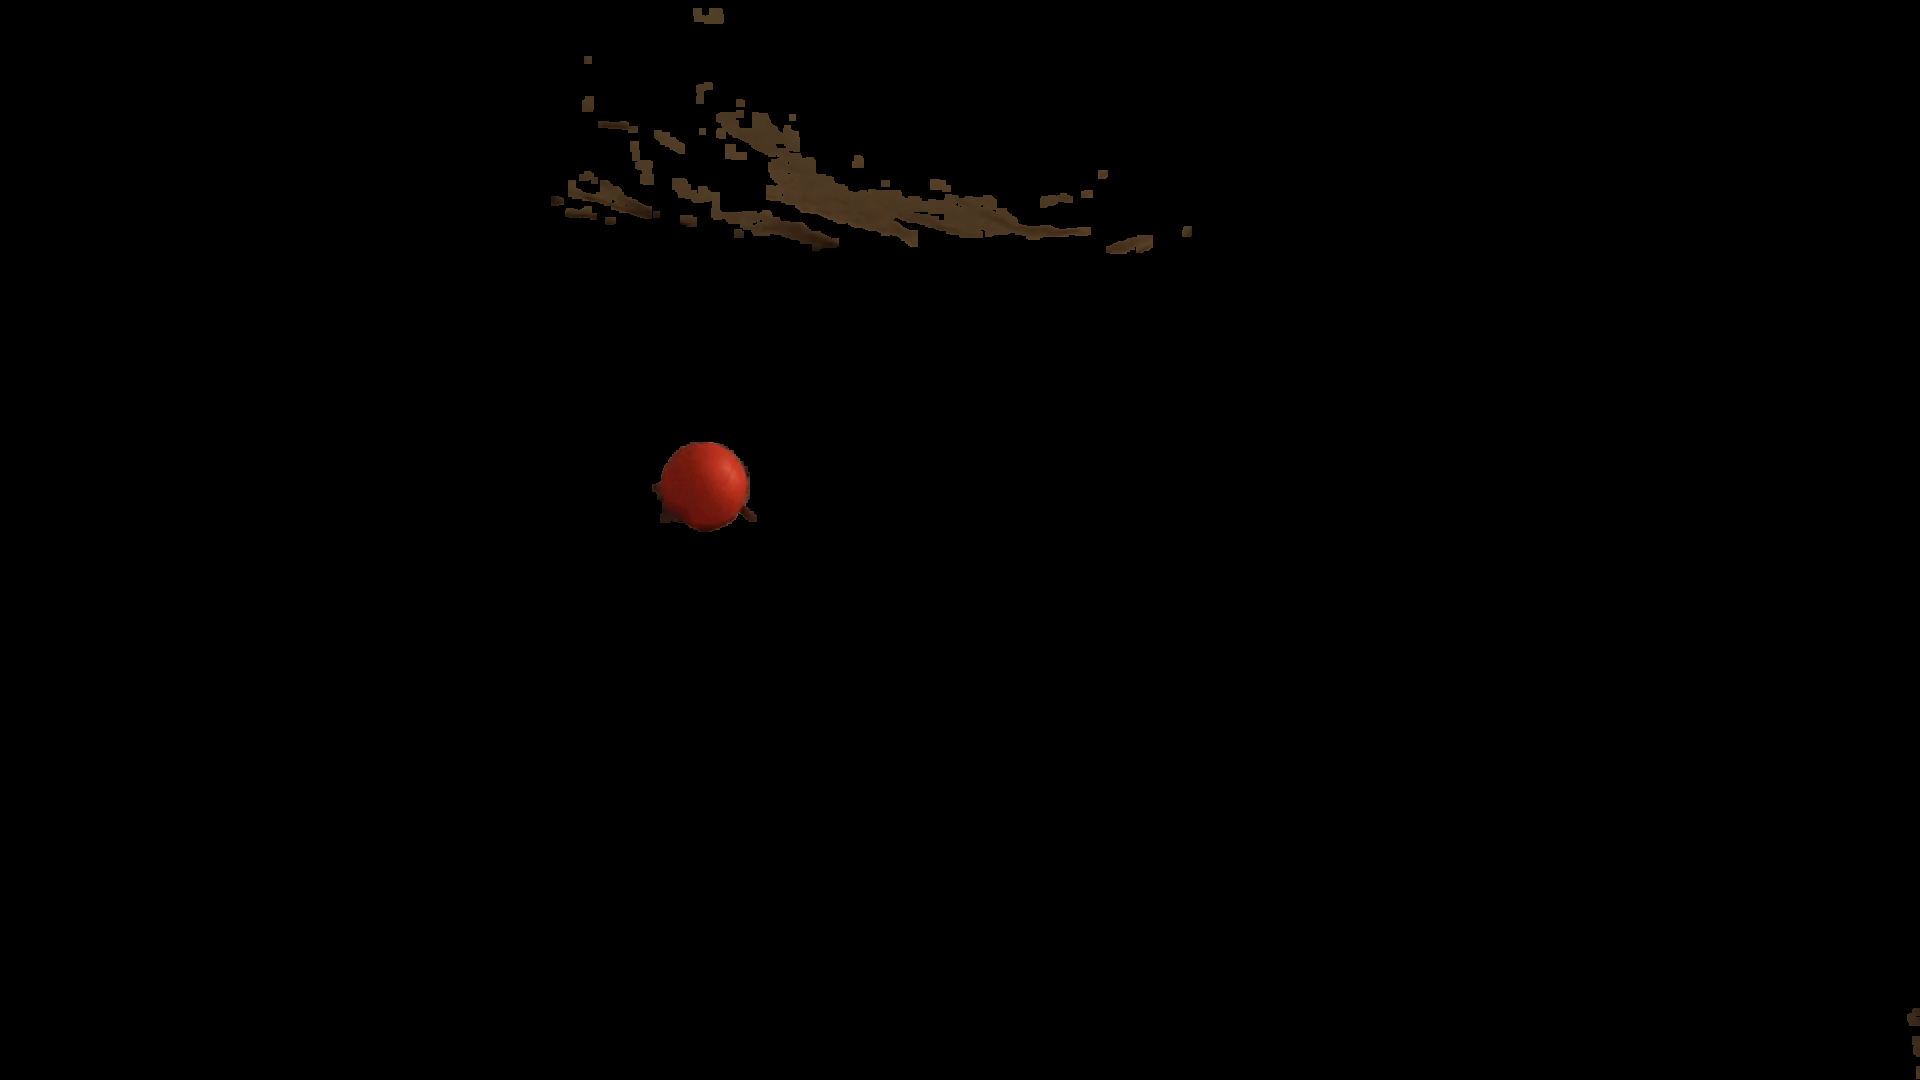Ball: (659, 440, 742, 529)
